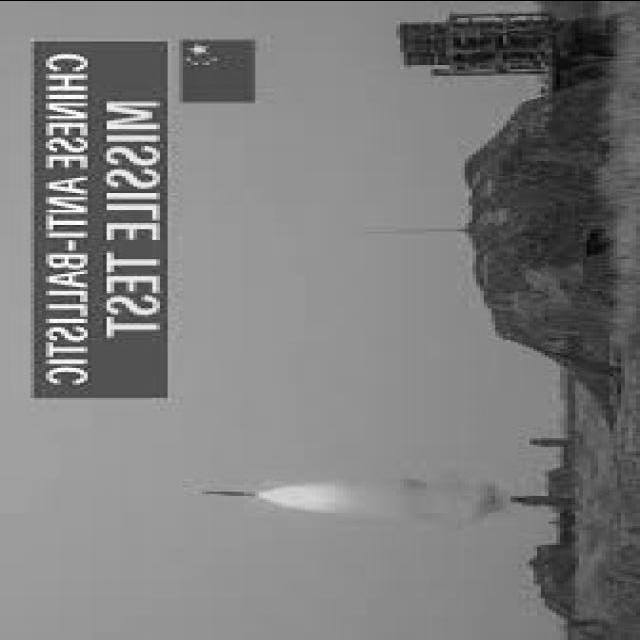Missile: (198, 487, 263, 499)
